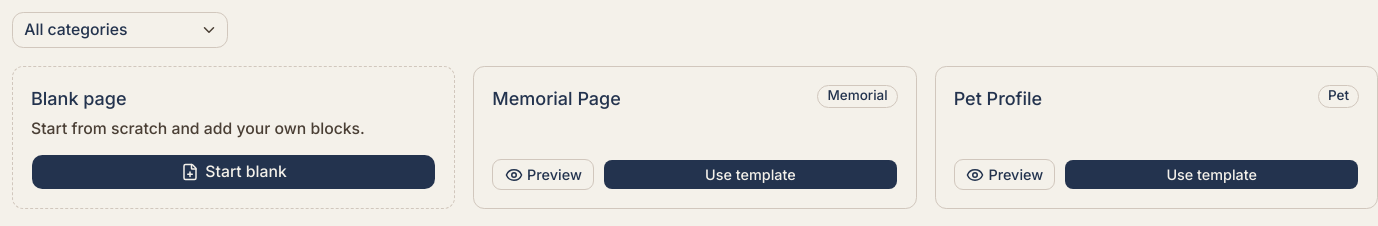
Scenario: PageTemplateGallery › lists templates and filters by category
The width and height of the screenshot is (1378, 226).
Expected: the text "Memorial Page" is shown, [492,85,621,114]
Expected: the text "Pet Profile" is shown, [954,85,1042,114]
Click the dropdown named "Category filter" at [120, 30], box [12,12,228,48]
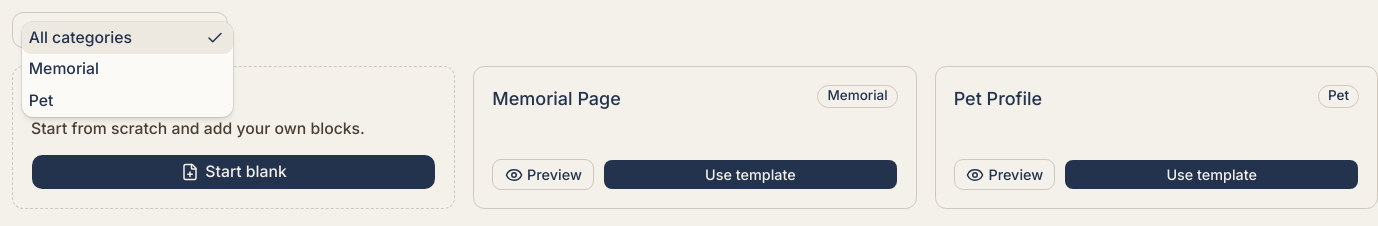
Click the option "pet" at [41, 100], box [29,90,53,110]
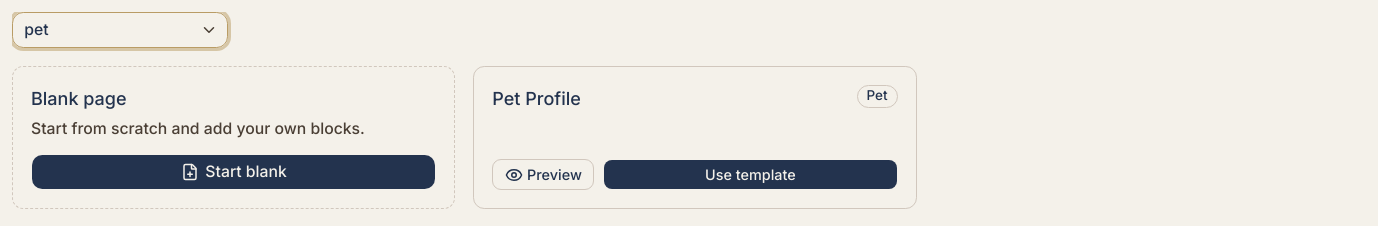
Expected: the text "Pet Profile" is shown, [492,85,581,114]
Expected: the text "Memorial Page" is gone
